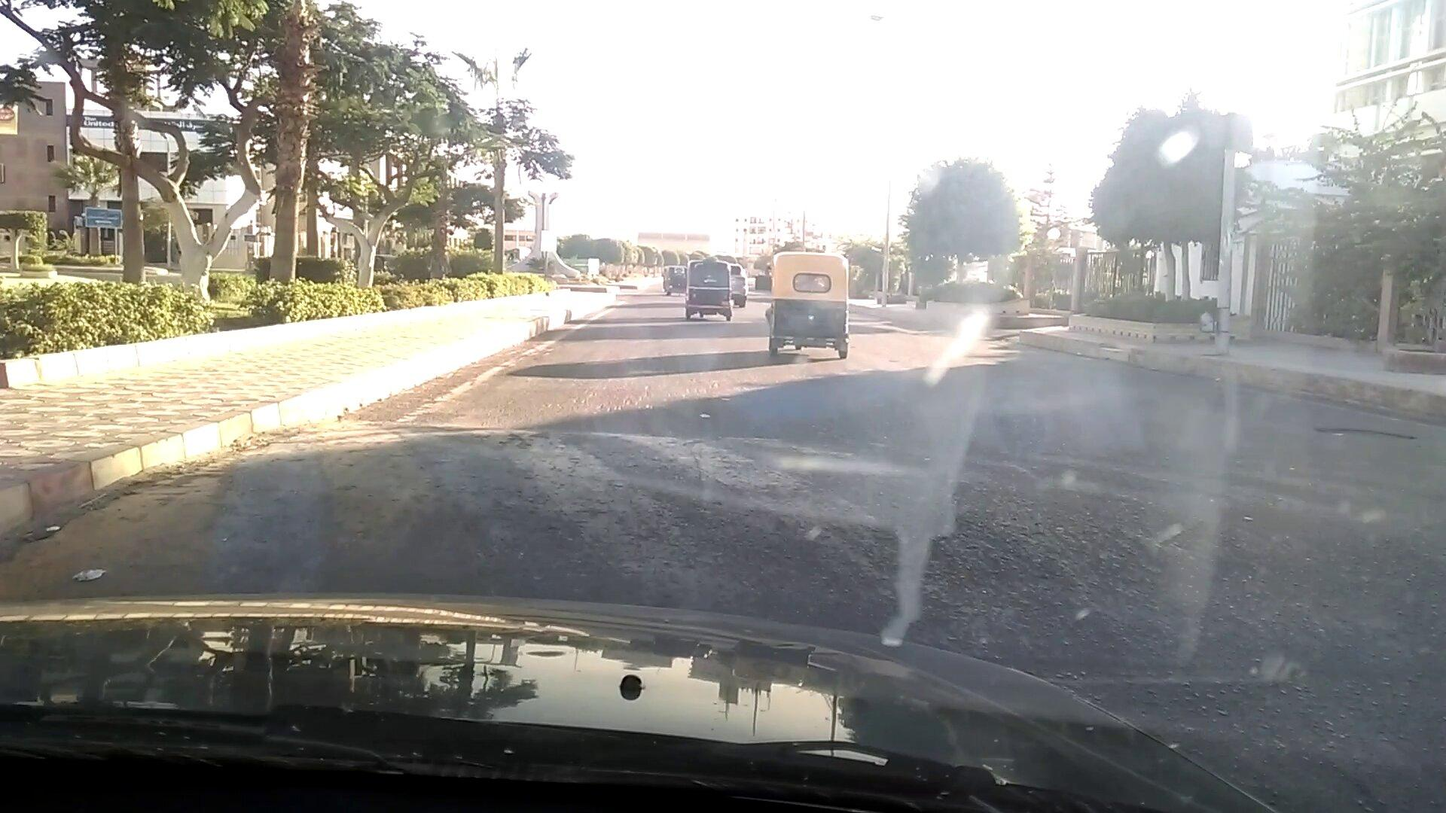Bump: (299, 438, 1412, 664)
